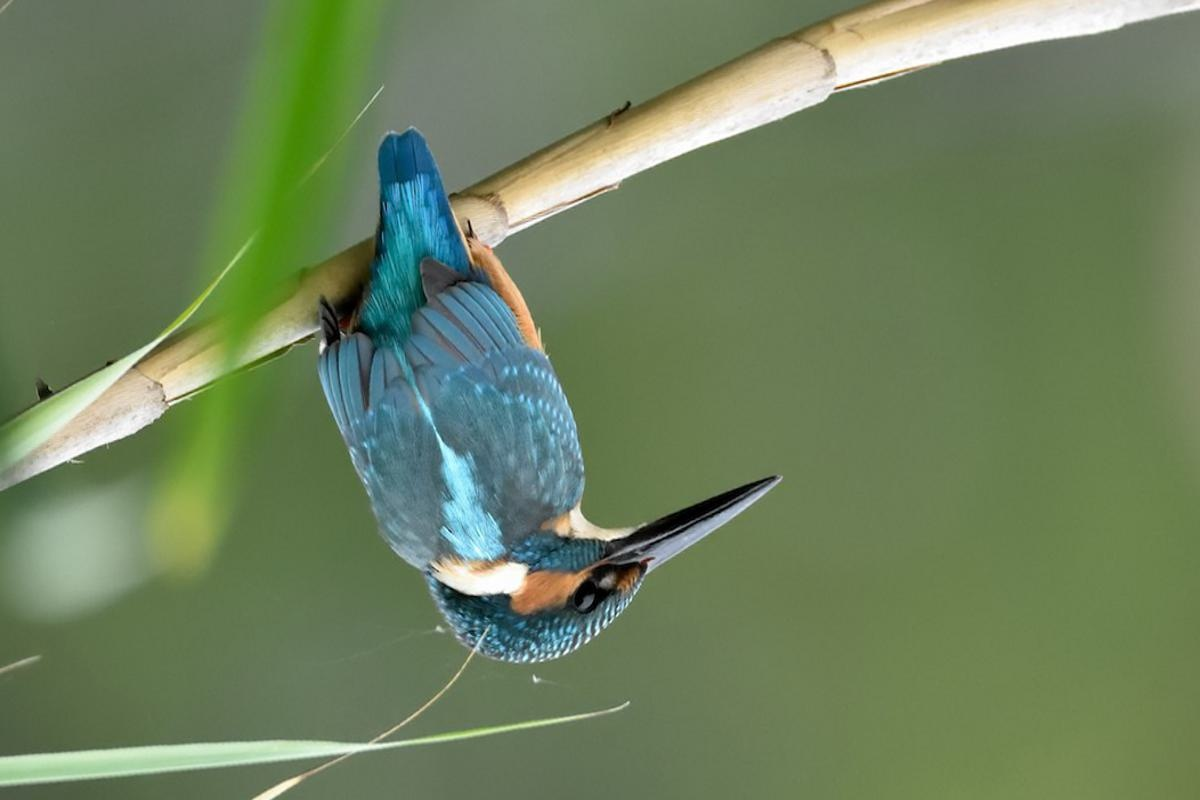kingfisher: (324, 136, 792, 679)
